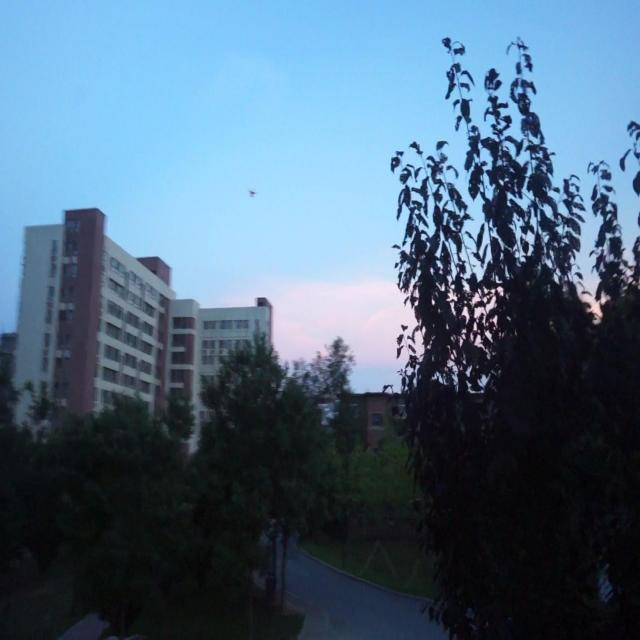UAV: (248, 189, 257, 197)
